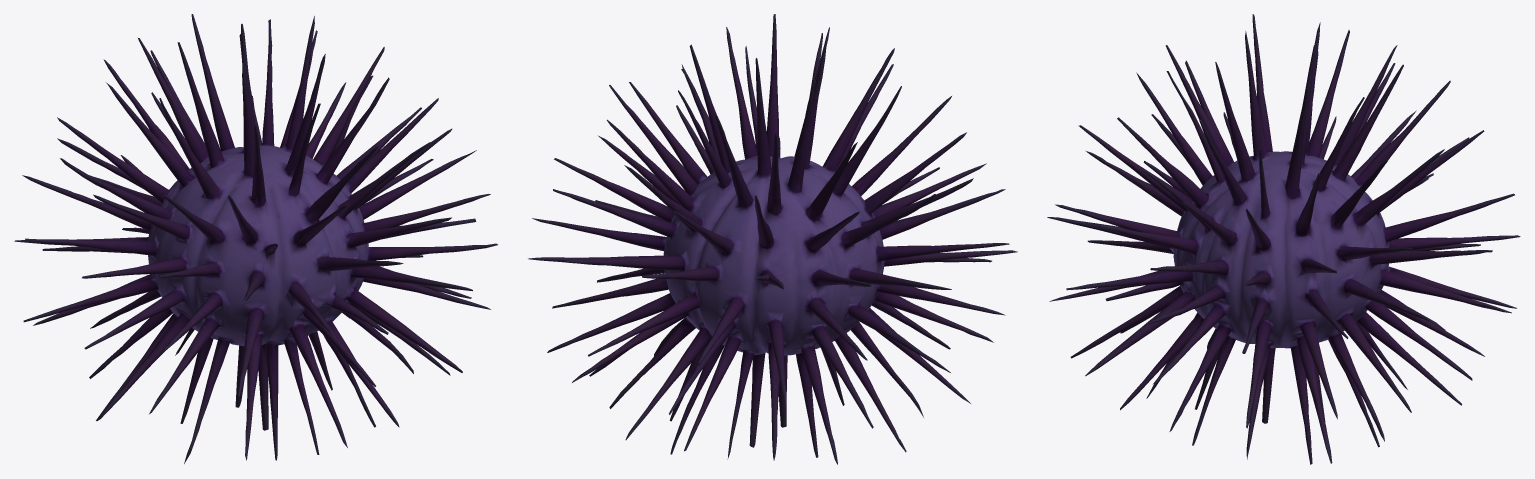
File: urchin.glb
3 renders of one model, left to right at view 1: azimuth 30°, elevation 25°; view 2: azimuth 150°, elevation 25°; view 3: azimuth 270°, elevation 25°, orthographic. The views are drawn at different scales.
Visible parts, largest first — view 1: tripo_node_57e84eb0-ebad-4b04-aef7-395a52820b41; view 2: tripo_node_57e84eb0-ebad-4b04-aef7-395a52820b41; view 3: tripo_node_57e84eb0-ebad-4b04-aef7-395a52820b41.
Part boxes in pixels (x1,y1,x2,y2): tripo_node_57e84eb0-ebad-4b04-aef7-395a52820b41: [14, 14, 497, 463]; tripo_node_57e84eb0-ebad-4b04-aef7-395a52820b41: [528, 14, 1017, 464]; tripo_node_57e84eb0-ebad-4b04-aef7-395a52820b41: [1047, 14, 1520, 464].
Bounding box in the file's own units: 0.9909 × 0.8811 × 1.
1 material, 1 textured.
